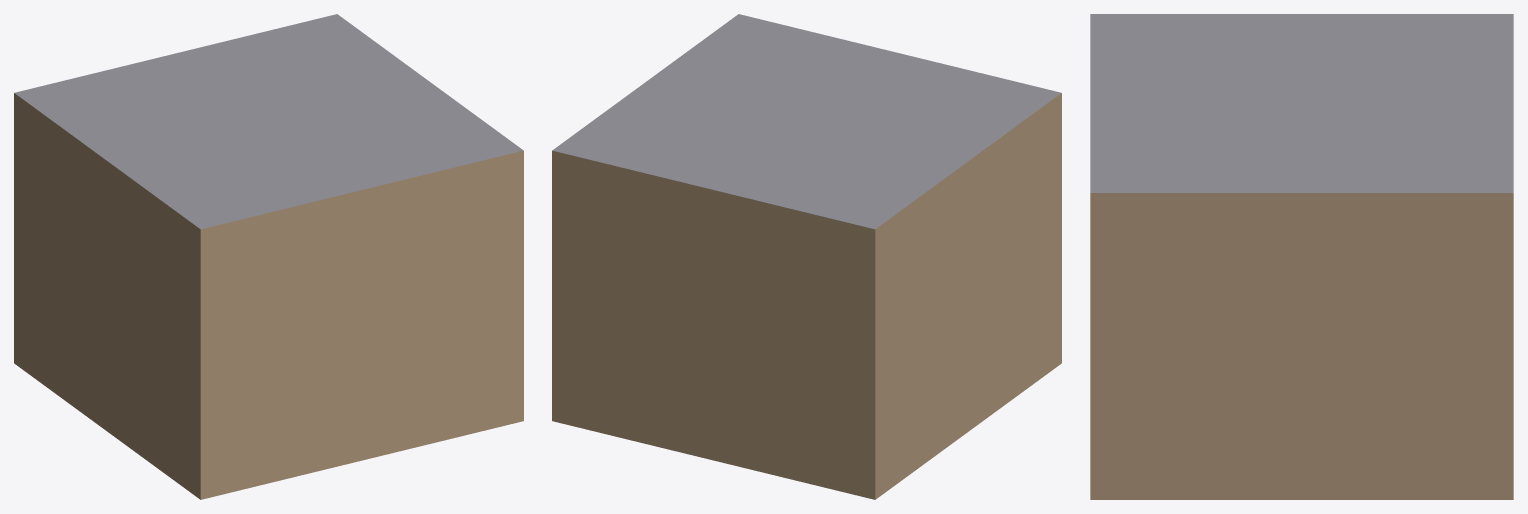
File: crate.glb
3 views of the same model, side by side, from view 1: azimuth 30°, elevation 25°; view 2: azimuth 150°, elevation 25°; view 3: azimuth 270°, elevation 25° (orthographic). The views are drawn at different scales.
Visible parts, largest first — view 1: Cube; view 2: Cube; view 3: Cube.
Part boxes in pixels (x1=…): Cube: x1=14, y1=14, x2=523, y2=499; Cube: x1=552, y1=14, x2=1061, y2=499; Cube: x1=1090, y1=14, x2=1513, y2=499.
Size of the model in its own units: 0.5 by 0.4 by 0.5.
